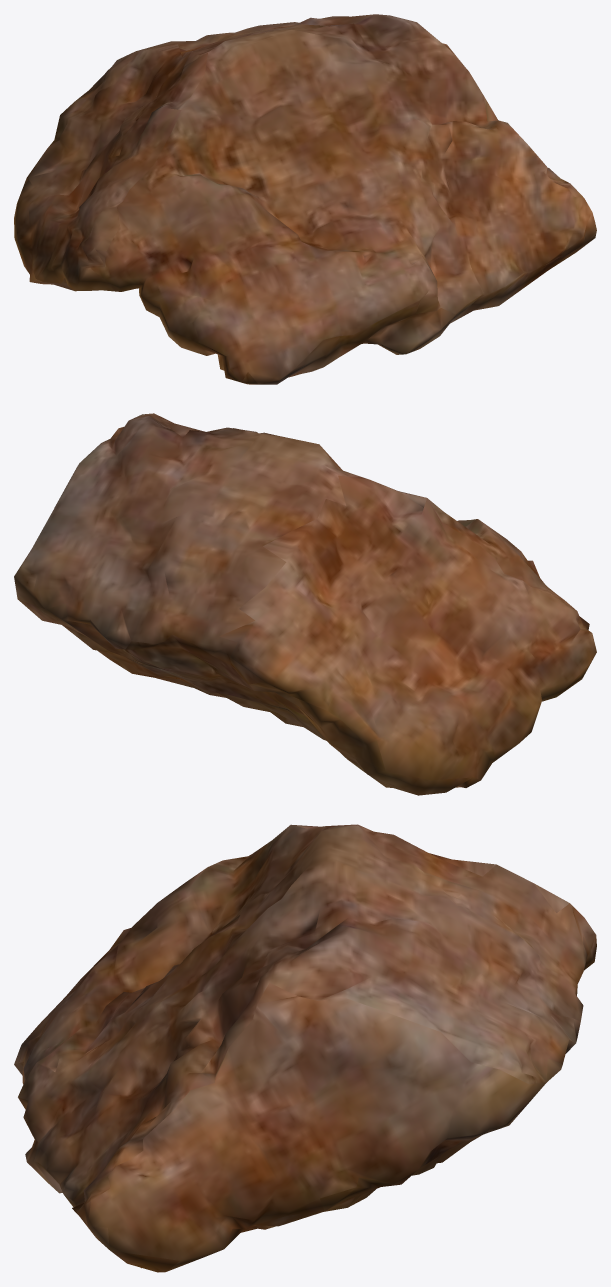
File: stones_01.glb
The picture shows the model from 3 angles, top to bottom: view 1: azimuth 30°, elevation 25°; view 2: azimuth 150°, elevation 25°; view 3: azimuth 270°, elevation 25°; orthographic projection. The views are drawn at different scales.
Visible parts, largest first — view 1: namaqualand_stones_01_a_LOD2; view 2: namaqualand_stones_01_a_LOD2; view 3: namaqualand_stones_01_a_LOD2.
Boxes of the visible parts, bbox=[...] form: namaqualand_stones_01_a_LOD2: bbox=[14, 14, 596, 384]; namaqualand_stones_01_a_LOD2: bbox=[14, 413, 596, 795]; namaqualand_stones_01_a_LOD2: bbox=[14, 824, 596, 1272].
Bounding box in the file's own units: 0.0764 × 0.038 × 0.063.
Materials: 1 (1 with a texture image).
